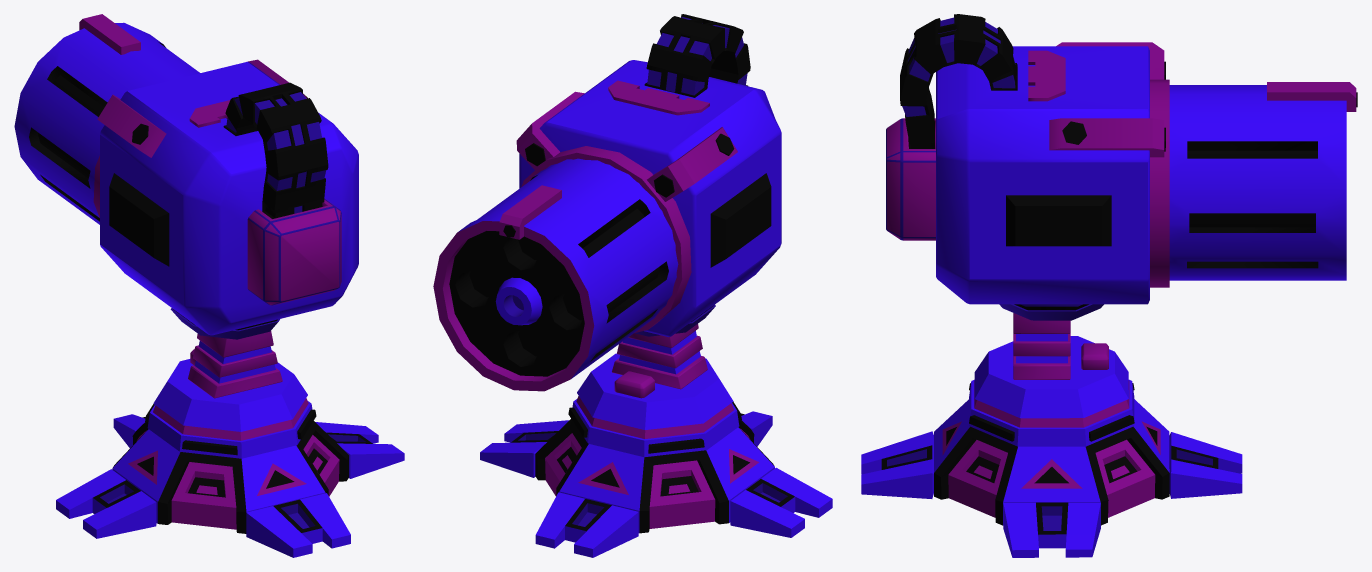
Rendered from Turret_1.fbx.
3 renders of one model, left to right at view 1: azimuth 30°, elevation 25°; view 2: azimuth 150°, elevation 25°; view 3: azimuth 270°, elevation 25°, orthographic. The views are drawn at different scales.
Parts seen in each view (by area): view 1: Head, Turret_1, Barrel, Pedestal_Top; view 2: Turret_1, Head, Barrel; view 3: Head, Turret_1, Barrel, Pedestal_Top.
Part boxes in pixels (bbox=[...]): Head: bbox=[93, 59, 358, 335]; Turret_1: bbox=[56, 331, 404, 557]; Barrel: bbox=[14, 14, 200, 224]; Pedestal_Top: bbox=[170, 308, 279, 339]; Turret_1: bbox=[480, 324, 832, 557]; Head: bbox=[516, 14, 781, 337]; Barrel: bbox=[433, 158, 678, 391]; Head: bbox=[886, 14, 1169, 304]; Turret_1: bbox=[861, 313, 1242, 557]; Barrel: bbox=[1169, 82, 1357, 280]; Pedestal_Top: bbox=[999, 304, 1103, 320].
Size of the model in its own units: 2.4 by 3.12 by 3.13.
